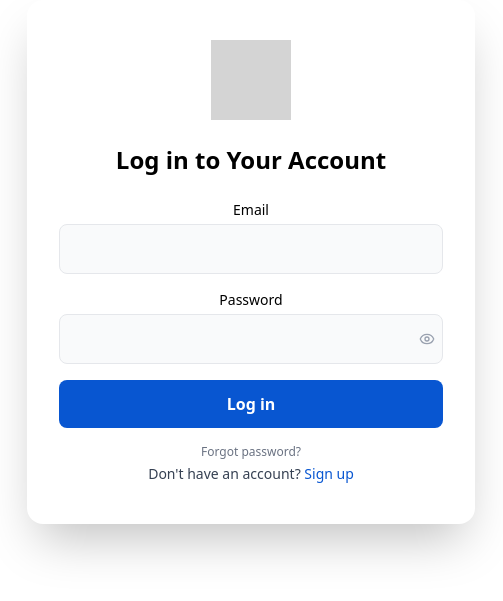
Test: Login › shows validation error if fields are empty
Click the button "Log in": (251, 404) [59, 380, 443, 428]
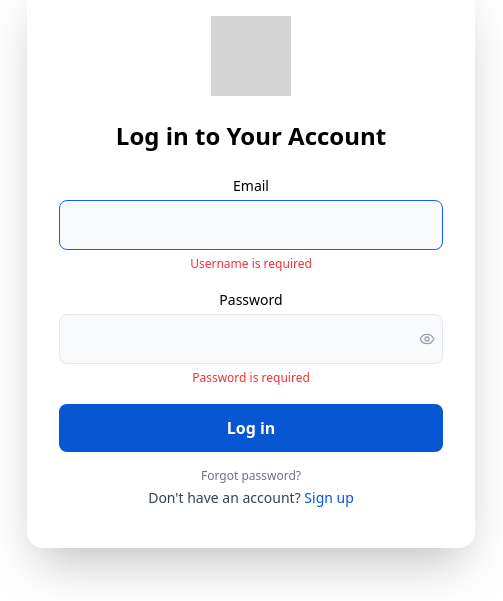
Expected: the text "Username is required" is shown, [190, 255, 312, 272]
Expected: the text "Password is required" is shown, [192, 369, 310, 386]
